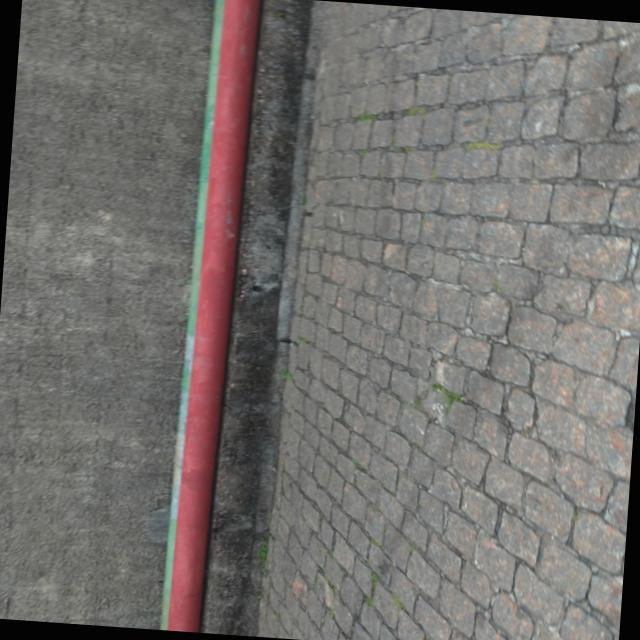gas: (169, 0, 264, 633)
